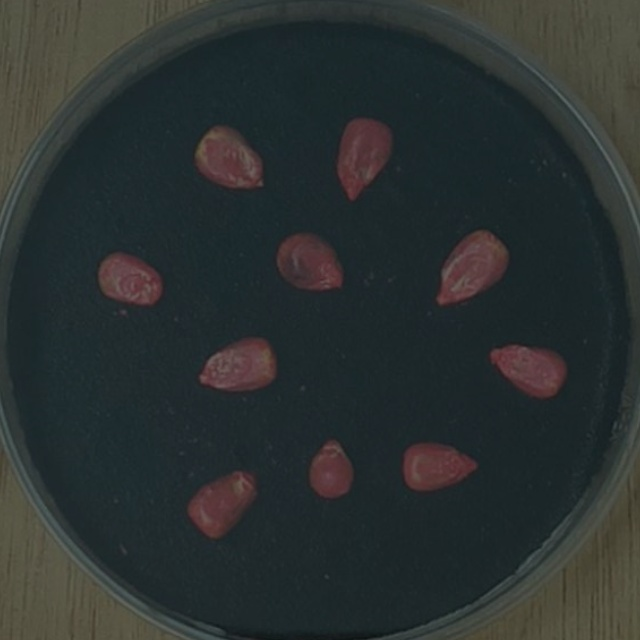Zea mays: (428, 219, 519, 313), (180, 459, 266, 545), (187, 117, 274, 198), (189, 326, 284, 400), (329, 110, 401, 207), (481, 334, 575, 407), (267, 222, 353, 297), (395, 433, 486, 501), (87, 242, 171, 313), (301, 428, 363, 506)
